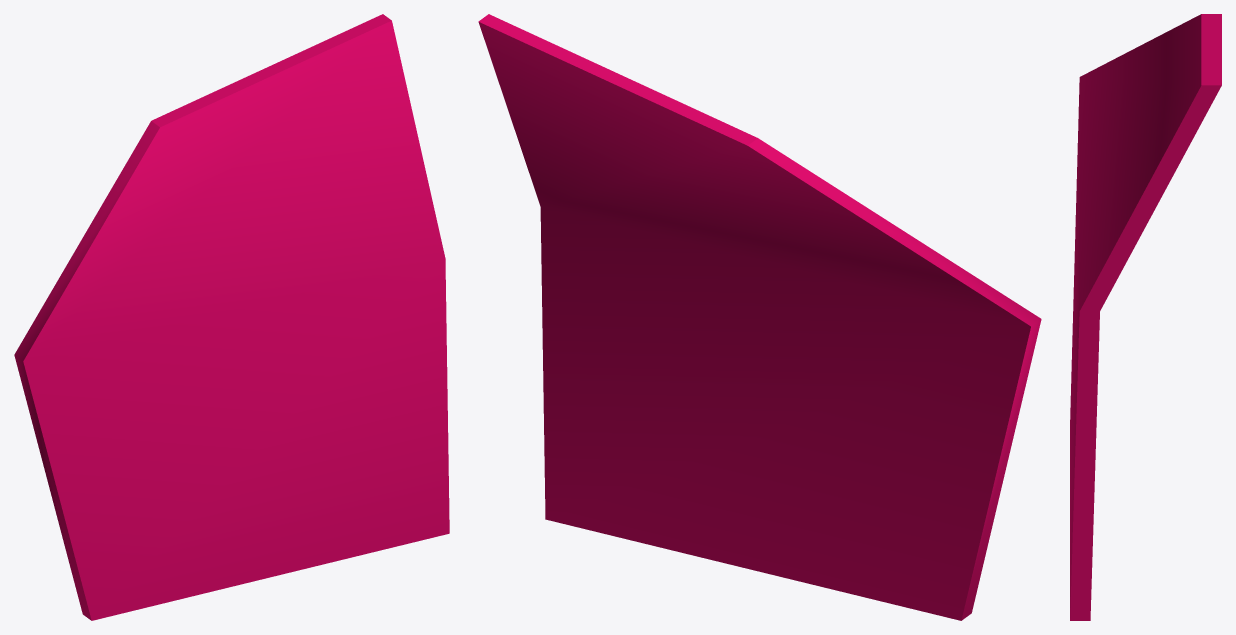
File: Car_Door_01_Collider.fbx
The picture shows the model from 3 angles, left to right: view 1: azimuth 30°, elevation 25°; view 2: azimuth 150°, elevation 25°; view 3: azimuth 270°, elevation 25°; orthographic projection. The views are drawn at different scales.
Visible parts, largest first — view 1: Car_Door_01_Collider; view 2: Car_Door_01_Collider; view 3: Car_Door_01_Collider.
Part boxes in pixels (<box>): Car_Door_01_Collider: <box>14,14,449,620</box>; Car_Door_01_Collider: <box>478,14,1041,620</box>; Car_Door_01_Collider: <box>1070,14,1221,620</box>.
Size of the model in its own units: 117 by 124 by 31.93.
